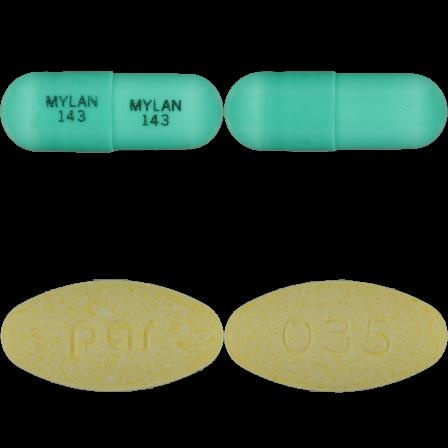54868-0074: (0, 0, 224, 224)
